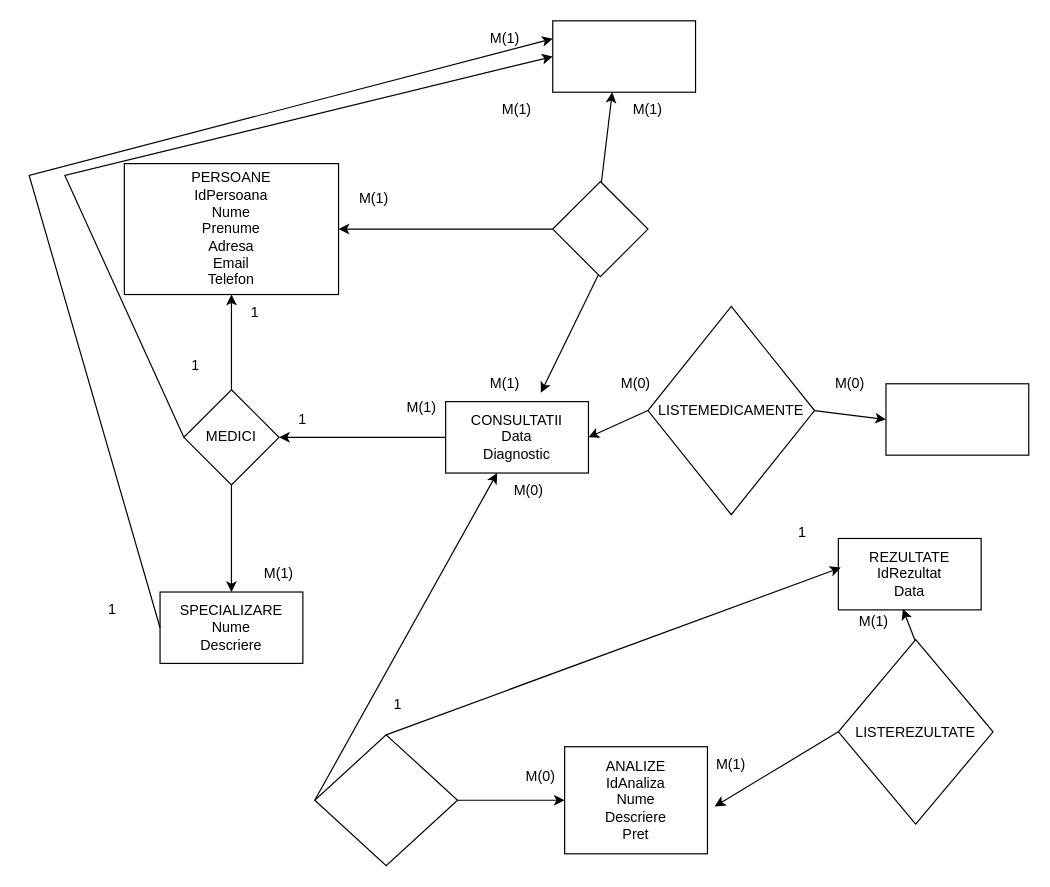
This 1050x887 diagram has some shape labels left out. Here are the shapes that lost their labels. From the top down, the box of each, then its label:
(552, 20, 696, 92): PROGRAMARI IdProgramare Data Ora
(552, 180, 648, 277): PACIENTI
(885, 383, 1029, 455): MEDICAMENTE IdMedicamen Nume
(314, 734, 458, 866): LISTEANALIZE
